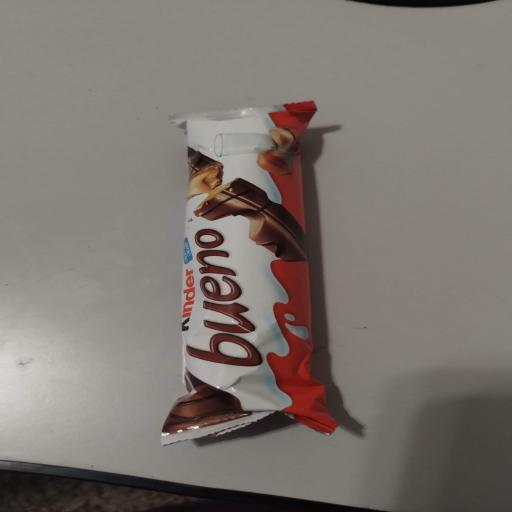chocolate: (162, 102, 337, 444)
